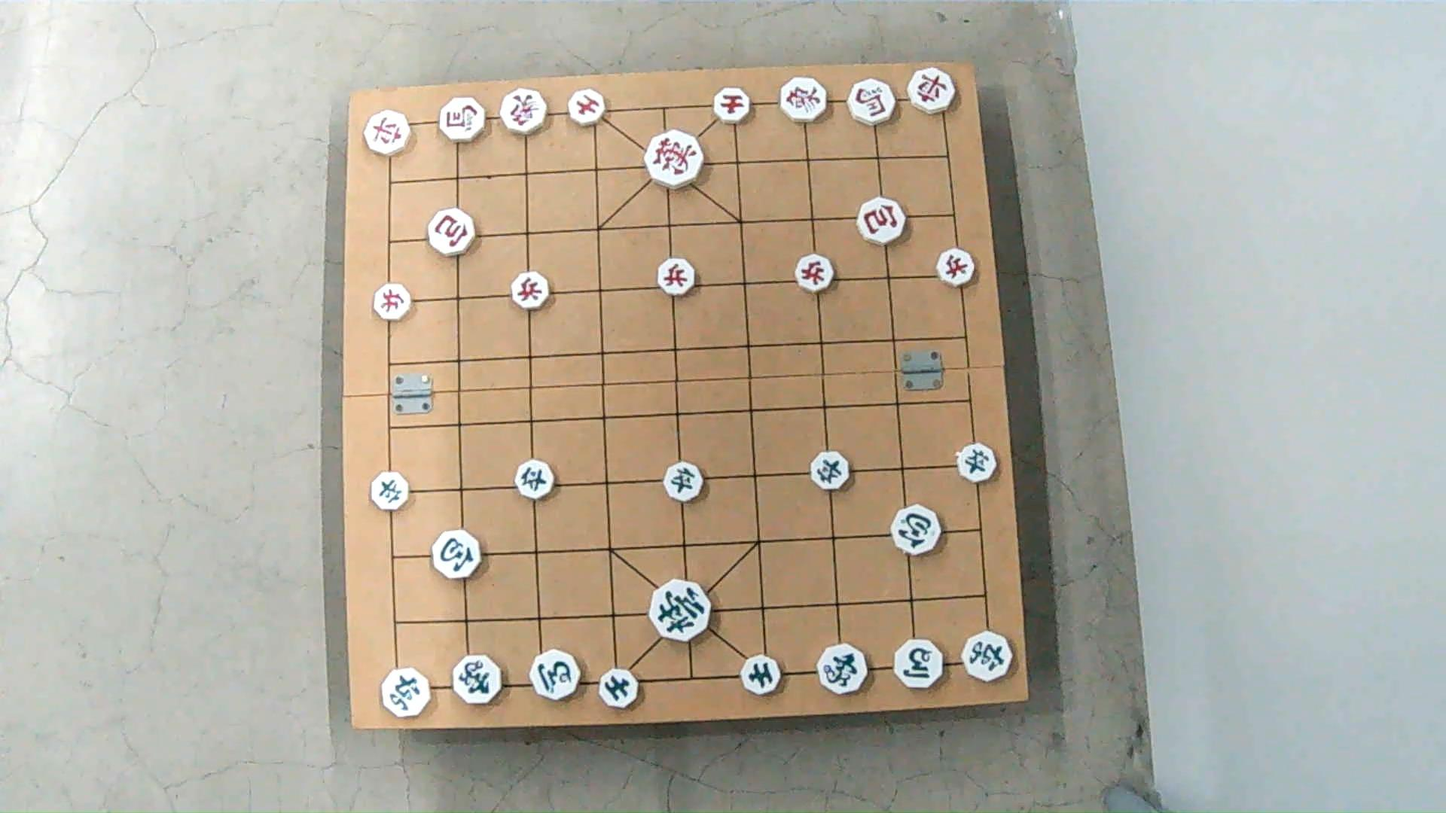cha_green: (962, 630, 1014, 681), (382, 670, 435, 716)
cha_red: (905, 71, 957, 112), (366, 114, 417, 154)
jol_green: (511, 461, 556, 497), (954, 446, 999, 482), (809, 454, 853, 489), (661, 464, 705, 499), (369, 473, 413, 507)
jol_red: (793, 257, 836, 292), (655, 260, 697, 295), (934, 251, 976, 285), (511, 274, 553, 307), (374, 288, 414, 321)
ma_green: (895, 642, 948, 688), (530, 653, 582, 699)
ma_red: (845, 82, 898, 123), (439, 101, 487, 143)
po_green: (429, 535, 482, 580), (890, 509, 943, 553)
po_red: (859, 201, 910, 243), (429, 212, 478, 254)
sa_green: (598, 670, 642, 708), (743, 656, 786, 693)
sa_red: (566, 91, 608, 126), (712, 90, 756, 121)
sang_green: (816, 641, 869, 693), (453, 655, 505, 705)
sang_red: (499, 88, 550, 131), (780, 79, 832, 121)
wang_green: (649, 586, 715, 641)
wang_red: (643, 133, 702, 185)
